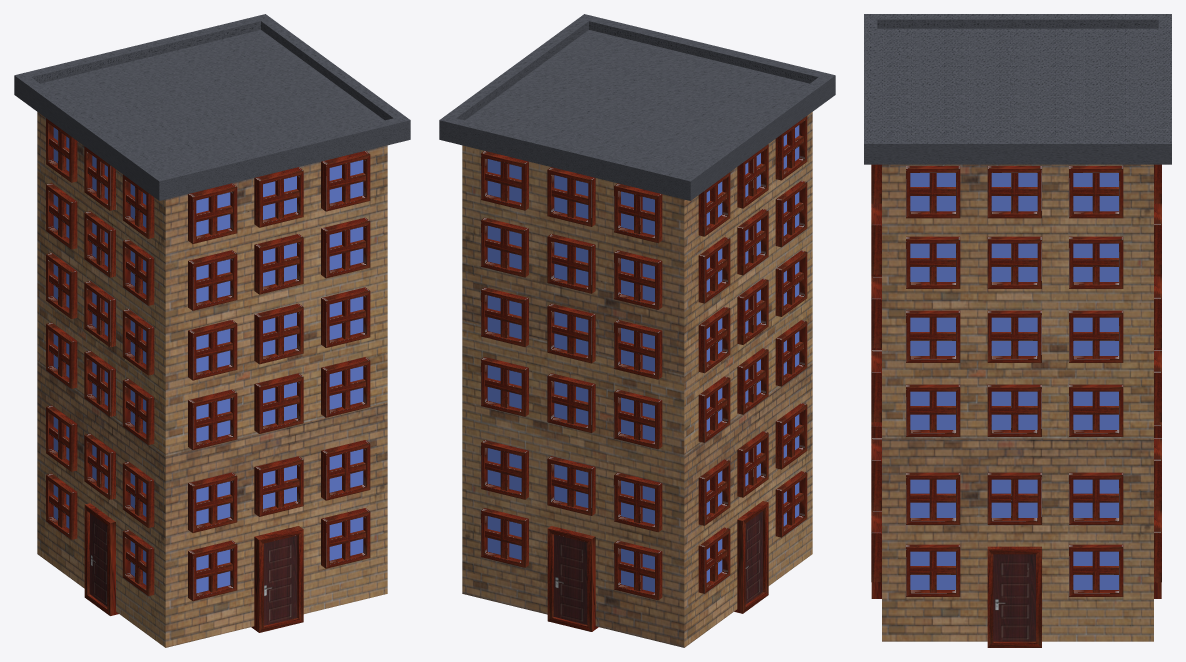
The model's file is building.fbx.
3 views of the same model, side by side, from view 1: azimuth 30°, elevation 25°; view 2: azimuth 150°, elevation 25°; view 3: azimuth 270°, elevation 25° (orthographic). The views are drawn at different scales.
Parts seen in each view (by area): view 1: pCube1, pCube4 (×34), Roof, Door (×2); view 2: pCube1, pCube4 (×34), Roof, Door (×2); view 3: pCube1, Roof, pCube4 (×27), Door.
Boxes of the visible parts, x1,y1,x2,y2 form: pCube1: [37, 112, 387, 647]; pCube4 (×34): [46, 118, 370, 600]; Roof: [14, 14, 410, 200]; Door (×2): [84, 503, 303, 632]; pCube1: [462, 112, 812, 647]; pCube4 (×34): [481, 116, 807, 600]; Roof: [439, 14, 835, 200]; Door (×2): [547, 501, 768, 631]; pCube1: [882, 164, 1153, 641]; Roof: [864, 14, 1171, 164]; pCube4 (×27): [871, 166, 1161, 596]; Door: [987, 546, 1041, 647].
Bounding box in the file's own units: 11.32 × 20.64 × 11.32.
